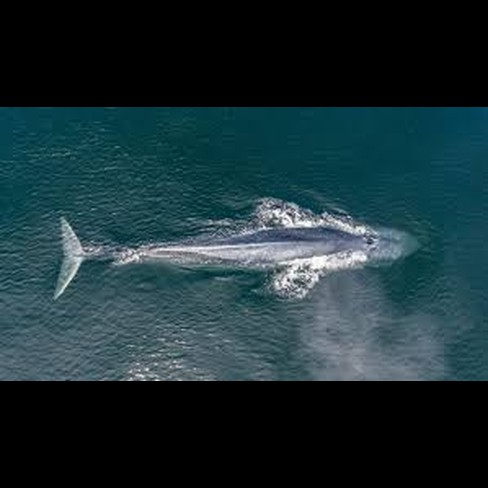bluewhale: (50, 211, 425, 309)
